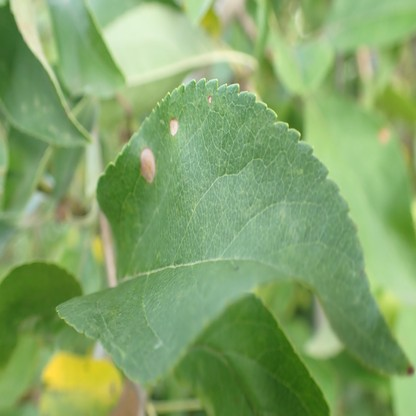frogeye_leaf_spot: (139, 147, 156, 185), (169, 118, 179, 137), (208, 95, 212, 102)
